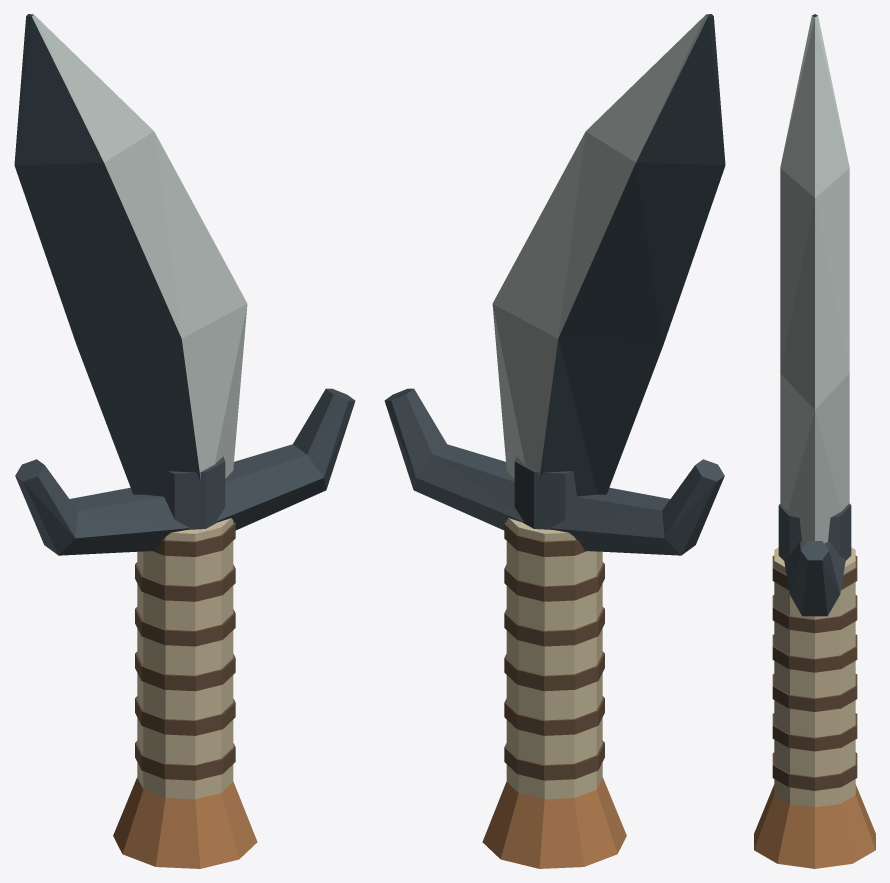
The model's file is AEW_Dagger_RavenBill.fbx.
The picture shows the model from 3 angles, left to right: view 1: azimuth 30°, elevation 25°; view 2: azimuth 150°, elevation 25°; view 3: azimuth 270°, elevation 25°; orthographic projection. The views are drawn at different scales.
Parts seen in each view (by area): view 1: AEW_Dagger_RavenBill; view 2: AEW_Dagger_RavenBill; view 3: AEW_Dagger_RavenBill.
Boxes of the visible parts, box(x1,y1,x2,y2) form: AEW_Dagger_RavenBill: box(14, 14, 355, 868); AEW_Dagger_RavenBill: box(384, 14, 725, 868); AEW_Dagger_RavenBill: box(754, 14, 875, 868).
Bounding box in the file's own units: 0.217 × 0.53 × 0.077.
